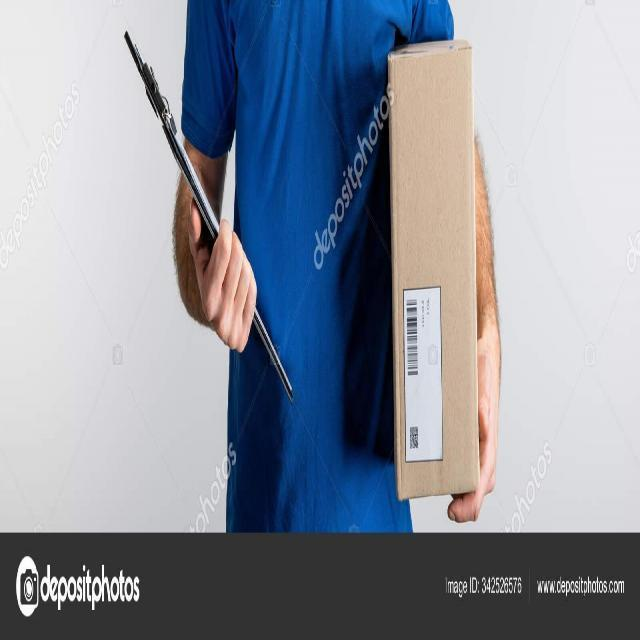box: (382, 29, 486, 520)
